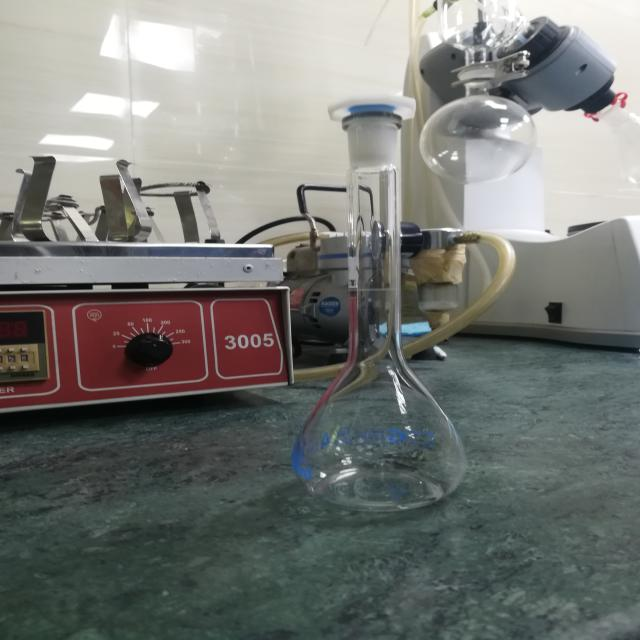Volumetric_Flask: (241, 60, 533, 536)
